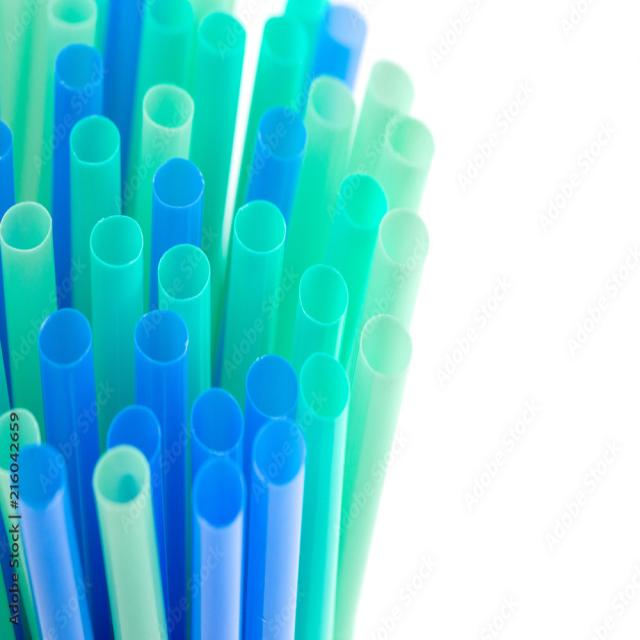plastic: (86, 444, 163, 640)
